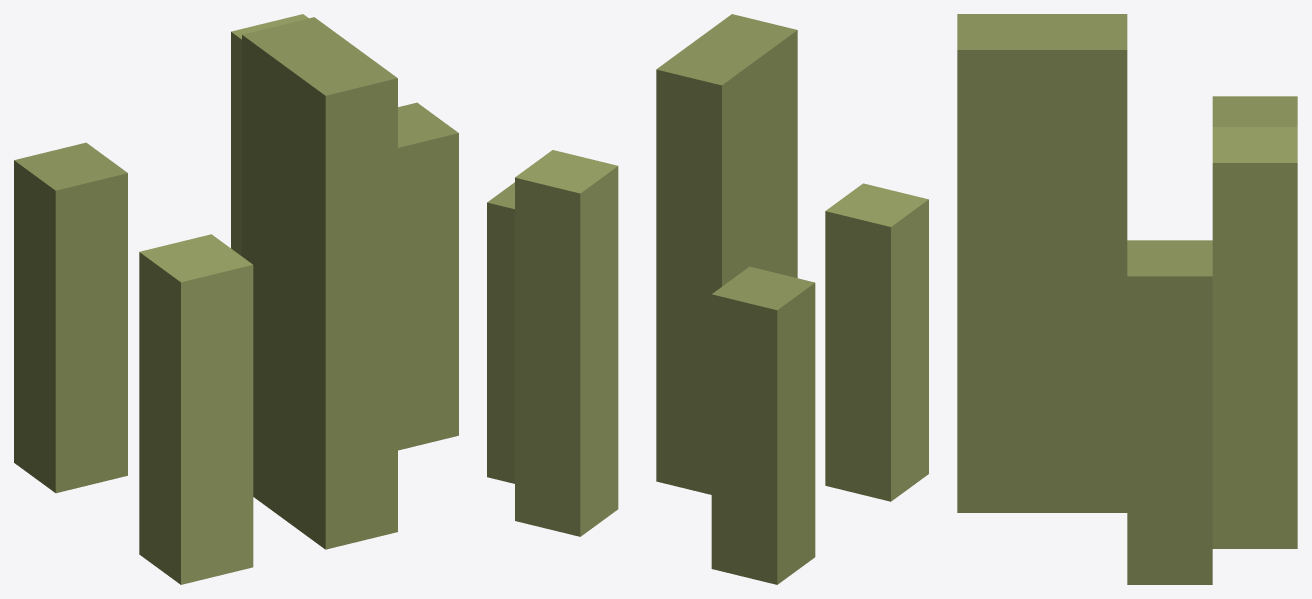
The model's file is espadana_01.glb.
3 views of the same model, side by side, from view 1: azimuth 30°, elevation 25°; view 2: azimuth 150°, elevation 25°; view 3: azimuth 270°, elevation 25° (orthographic). The views are drawn at different scales.
Visible parts, largest first — view 1: espadana_01; view 2: espadana_01; view 3: espadana_01.
Boxes of the visible parts, left/top/right/bottom form: espadana_01: left=14, top=14, right=458, bottom=584; espadana_01: left=487, top=14, right=928, bottom=584; espadana_01: left=957, top=14, right=1297, bottom=584.
Size of the model in its own units: 0.5 by 0.6 by 0.4.
